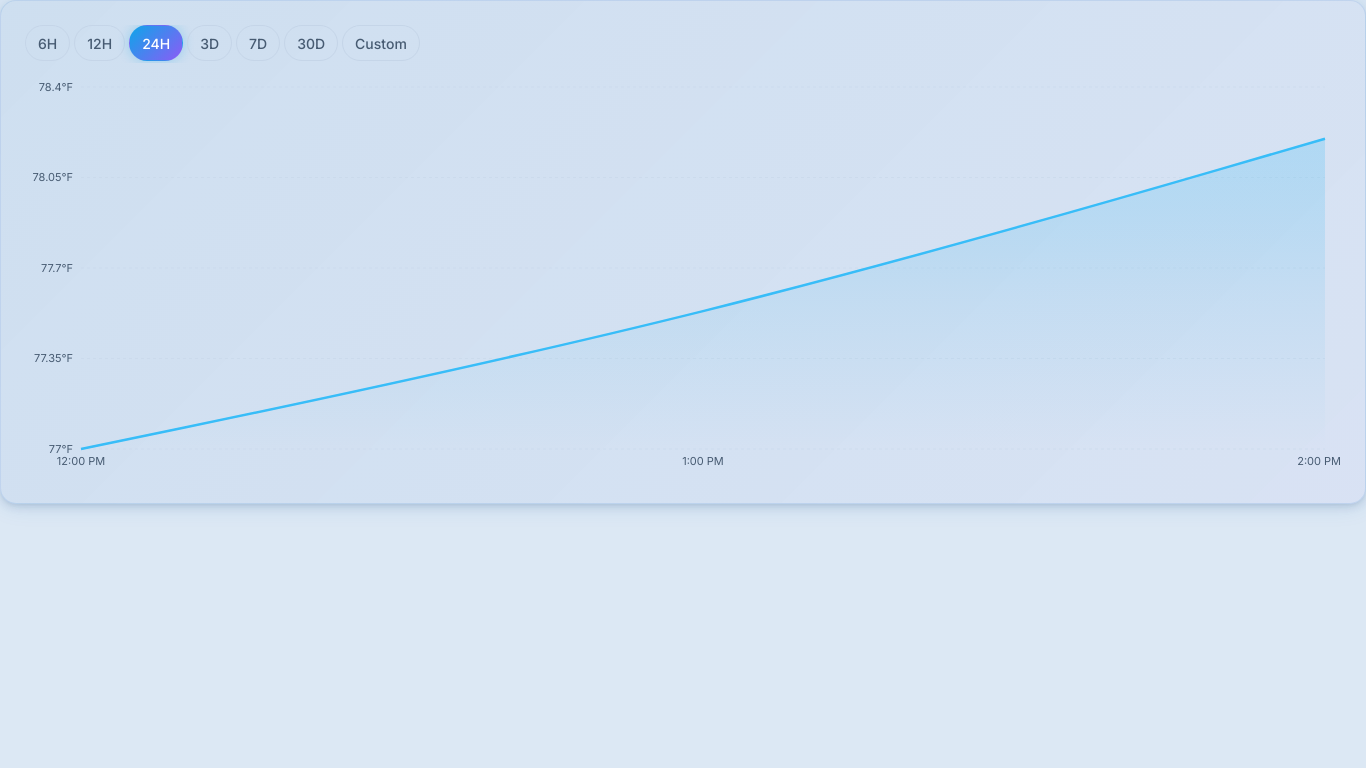
Test: TempChart › Custom button opens the bottom sheet
Click the button "Custom": (381, 43) [342, 25, 420, 61]
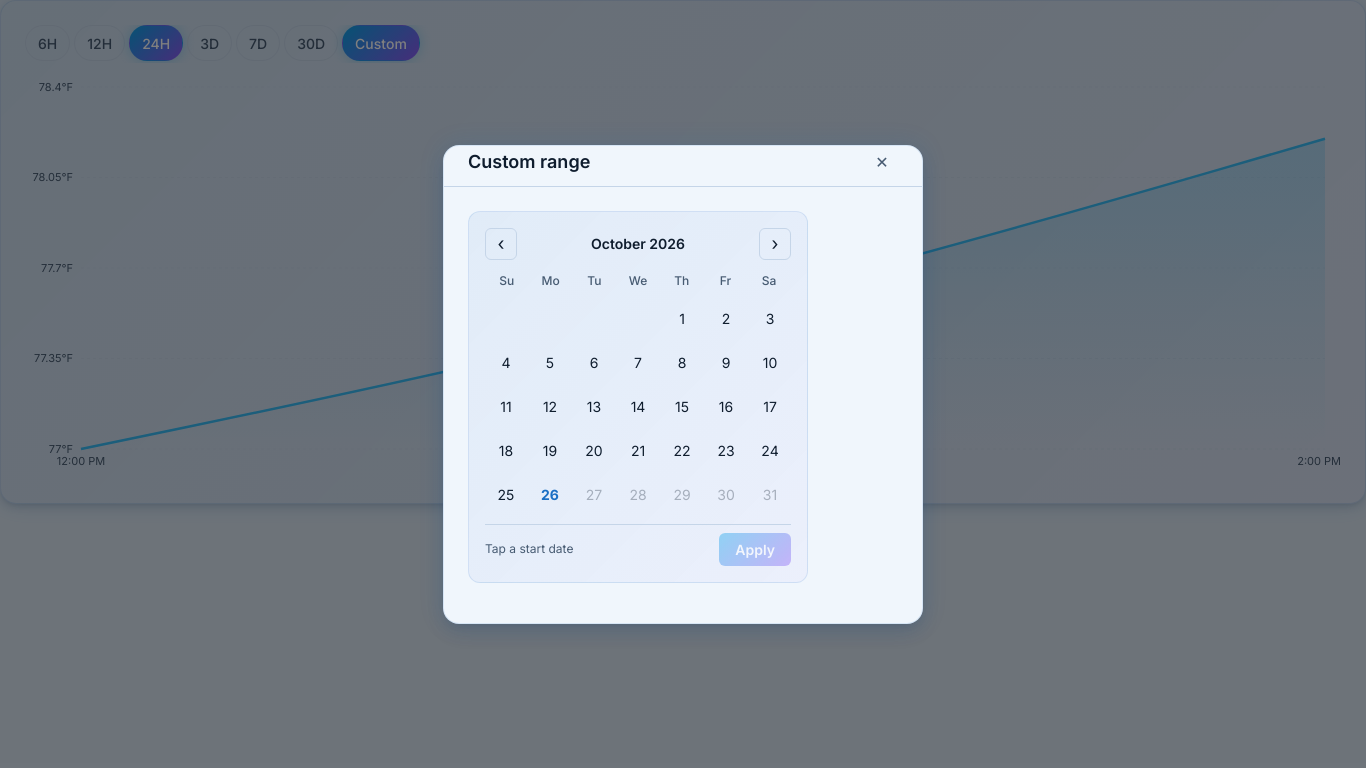
Check: the dialog "Custom range" is shown, box [443, 144, 923, 624]
